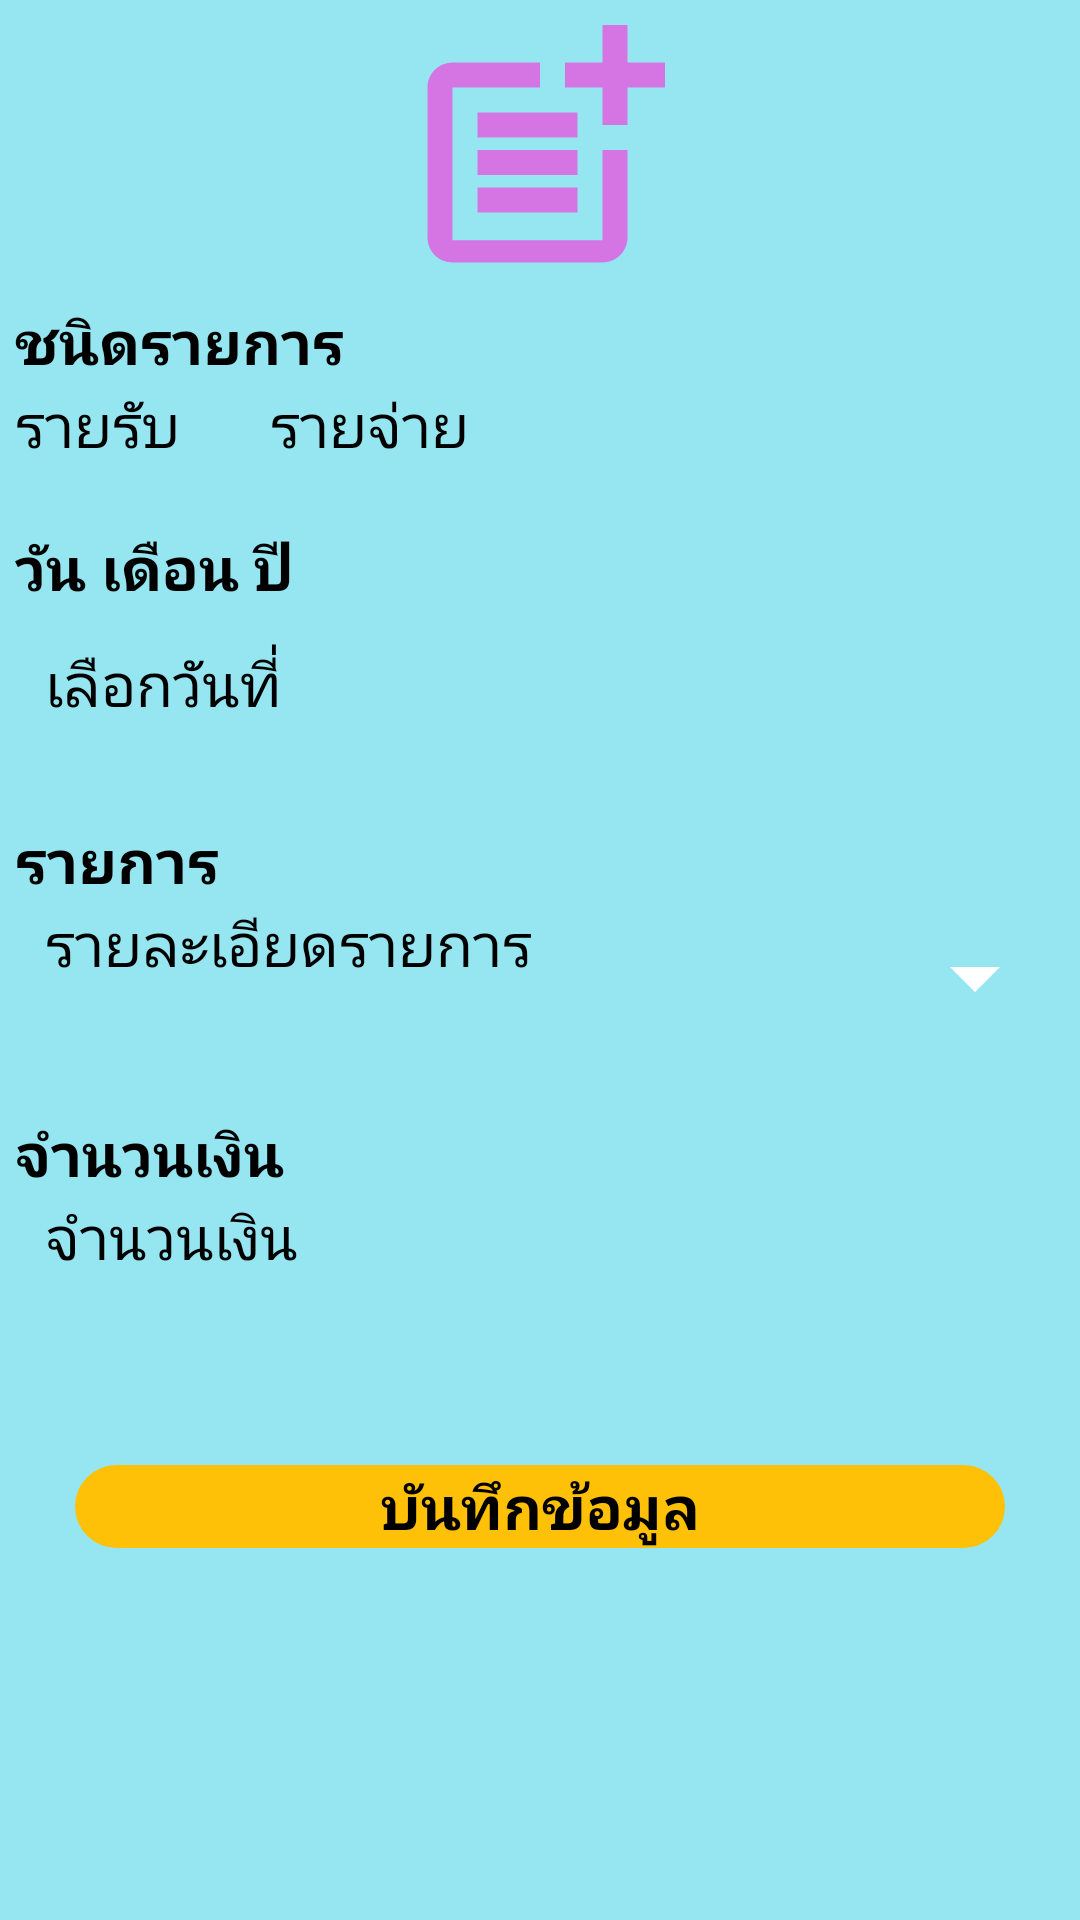

Locate icon controls on the screen. Image size 1080 x 1920, boxes as [left=x1, top=y1, right=x2, bottom=y2].
arrow drop down: [left=950, top=967, right=1000, bottom=992]
post add: [left=427, top=25, right=665, bottom=263]
